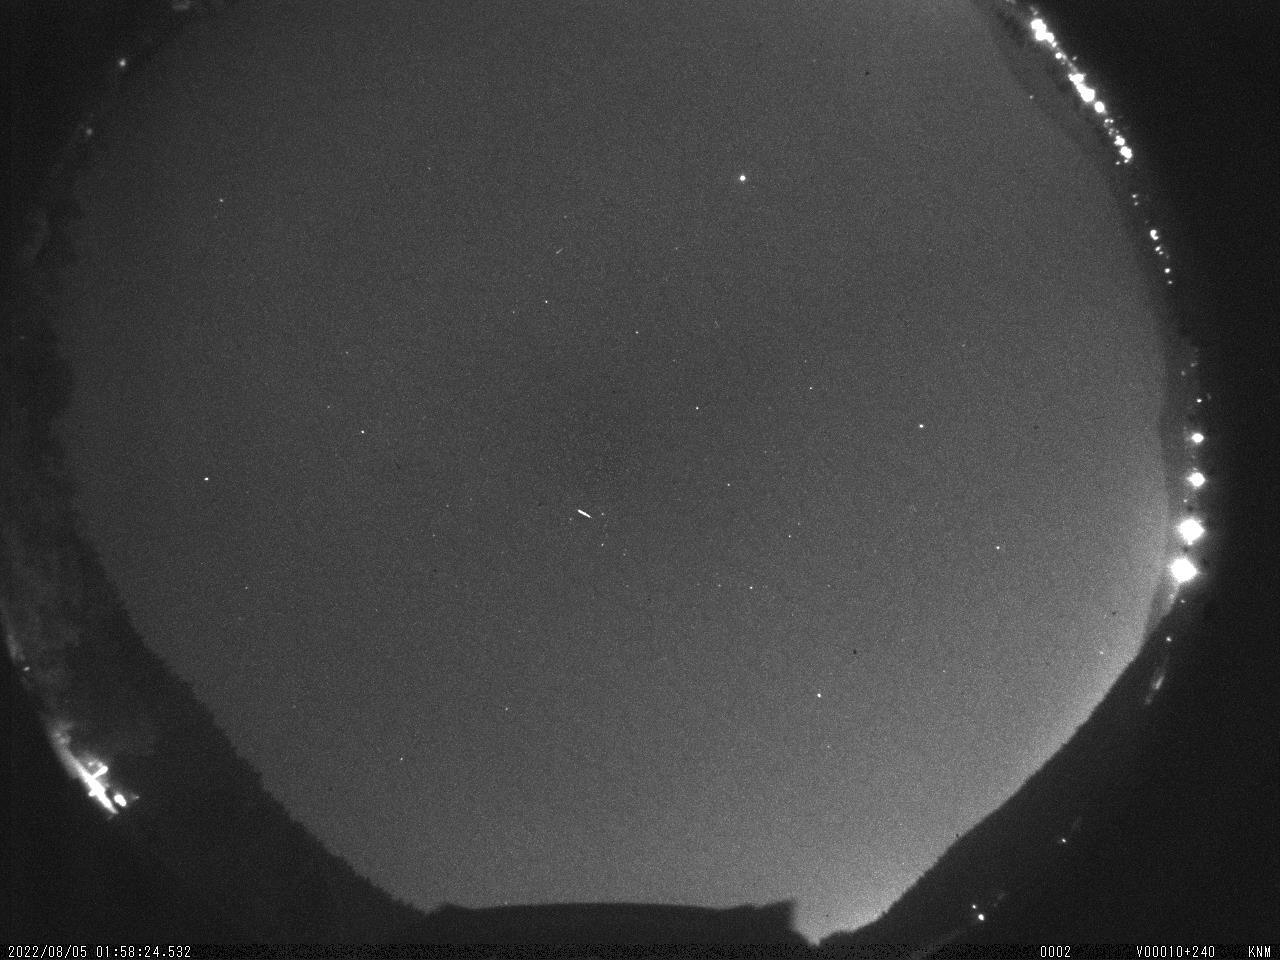Meteor: (572, 500, 598, 529)
